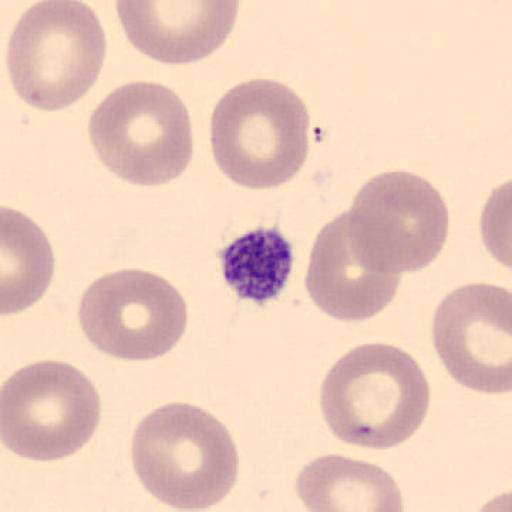Platelet: (217, 223, 296, 306)
RBC: (318, 341, 432, 452), (129, 400, 241, 510), (207, 76, 311, 191), (86, 78, 194, 188), (4, 0, 108, 114), (304, 209, 402, 323), (346, 168, 450, 275), (76, 266, 190, 363), (2, 356, 103, 462), (431, 280, 512, 396), (113, 0, 241, 66), (294, 453, 406, 512), (2, 206, 56, 316), (478, 177, 512, 272), (472, 488, 512, 512)
